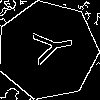Y: (23, 25, 75, 67)
